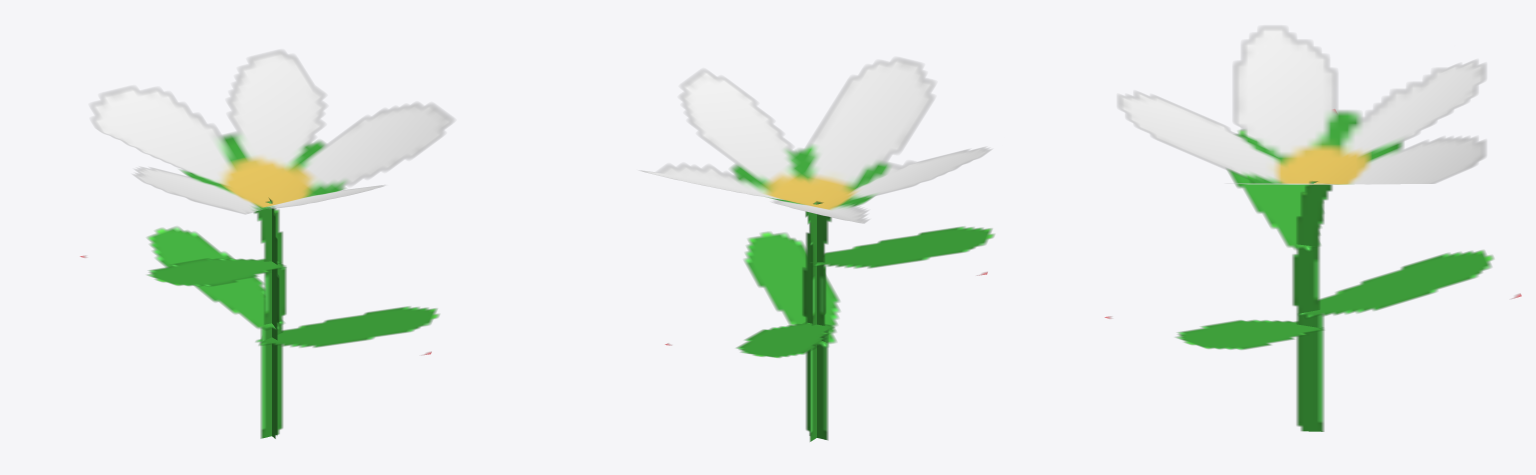
File: Flower.glb
The picture shows the model from 3 angles, left to right: view 1: azimuth 30°, elevation 25°; view 2: azimuth 150°, elevation 25°; view 3: azimuth 270°, elevation 25°; orthographic projection. The views are drawn at different scales.
Parts seen in each view (by area): view 1: Flower; view 2: Flower; view 3: Flower.
Boxes of the visible parts, x1,y1,x2,y2 form: Flower: (80,50,454,438); Flower: (640,57,994,441); Flower: (1104,26,1521,431).
Bounding box in the file's own units: 0.5593 × 0.4663 × 0.5307.
1 material, 1 textured.
